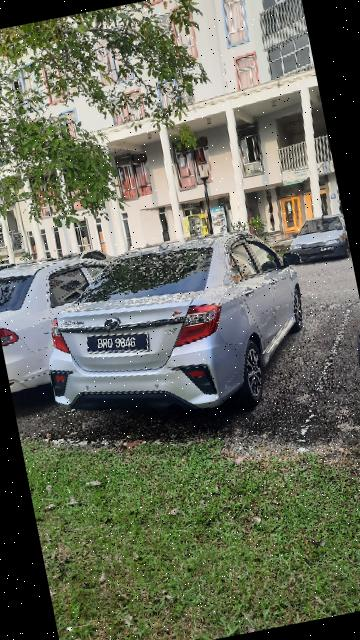License_Plate: (83, 322, 158, 369), (319, 245, 337, 254)
car: (15, 213, 331, 450), (1, 246, 133, 395), (282, 208, 352, 270)
